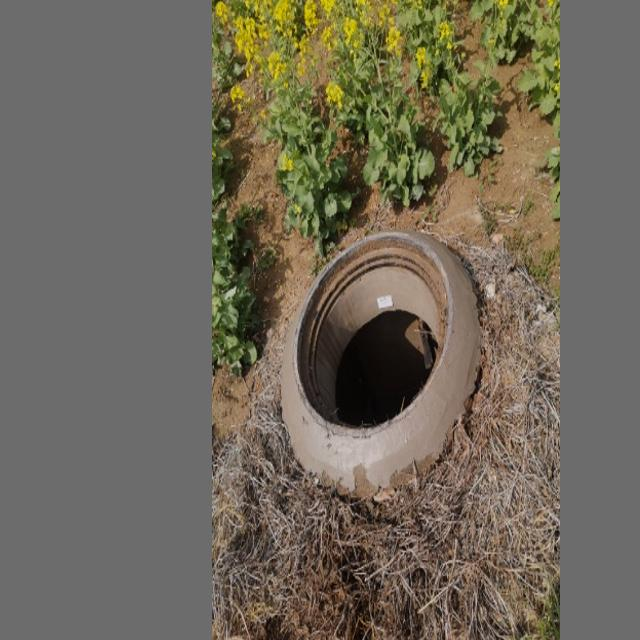lose: (281, 235, 492, 502)
